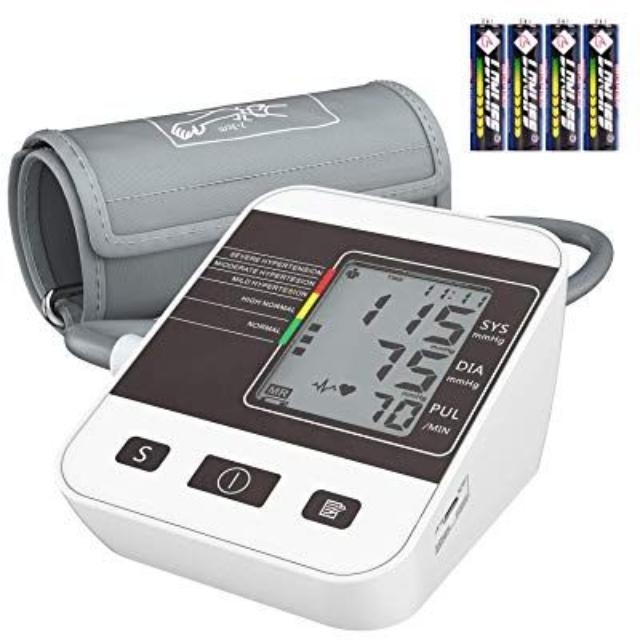Blood-Pressure-Monitor: (61, 186, 566, 627)
